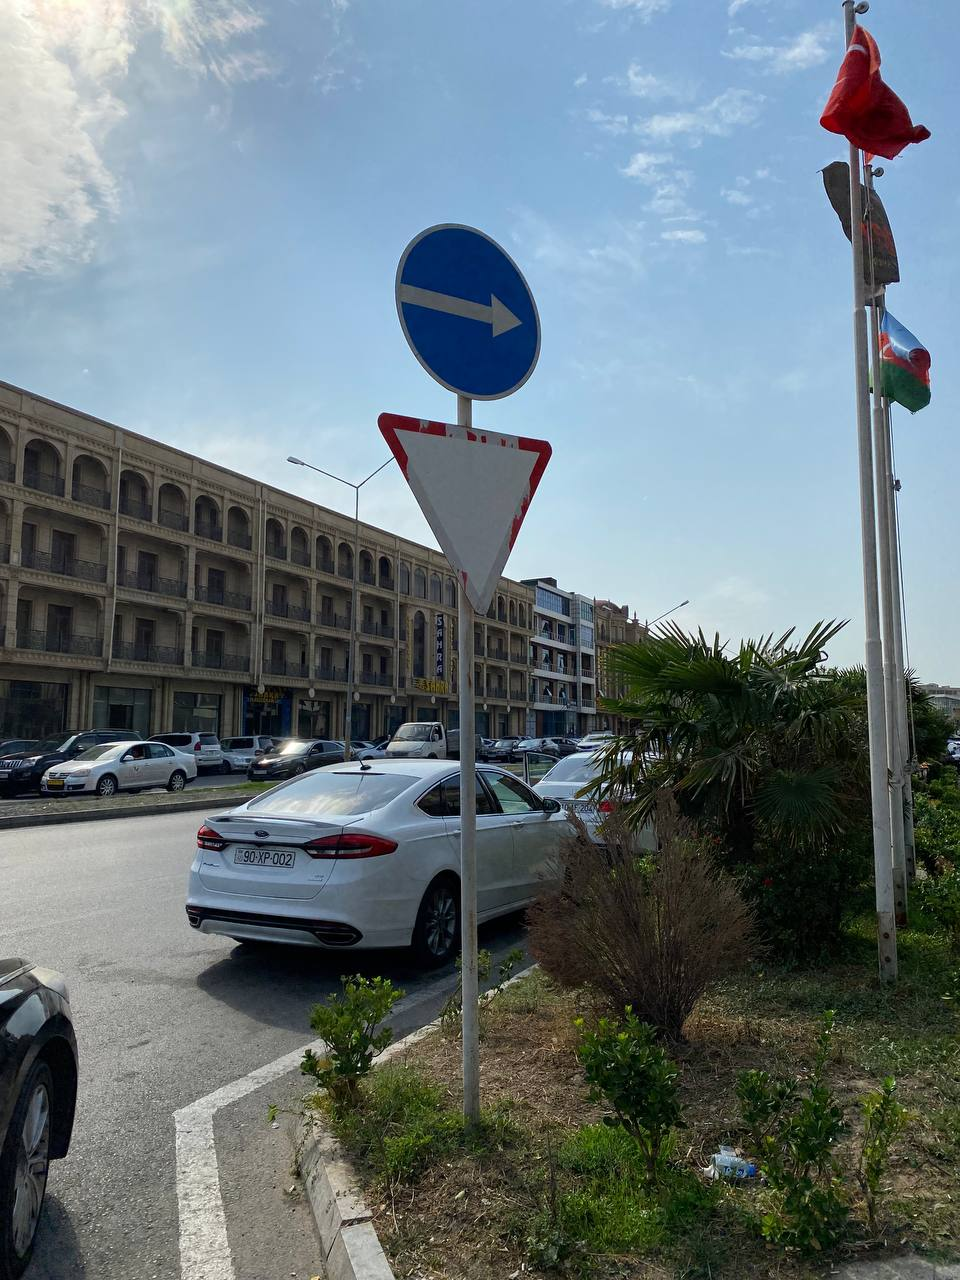Turn Right: (394, 223, 541, 401)
